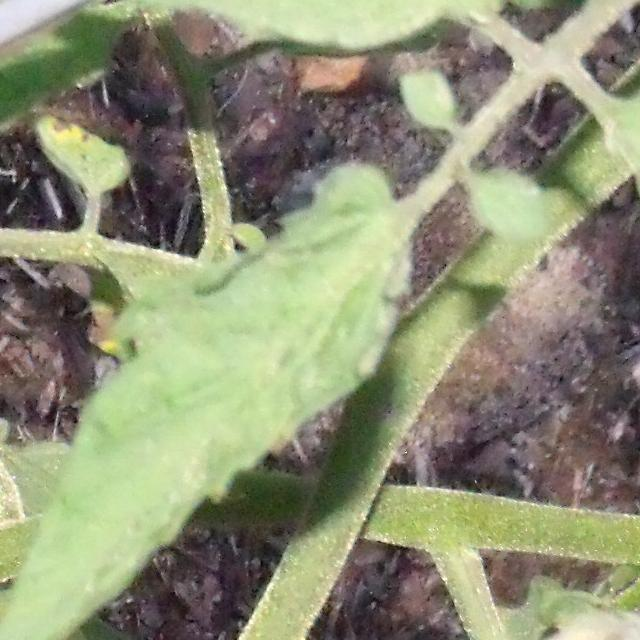Tomato leaf bacterial spot: (12, 155, 445, 640), (0, 0, 540, 80), (299, 611, 586, 640), (634, 5, 640, 452)
